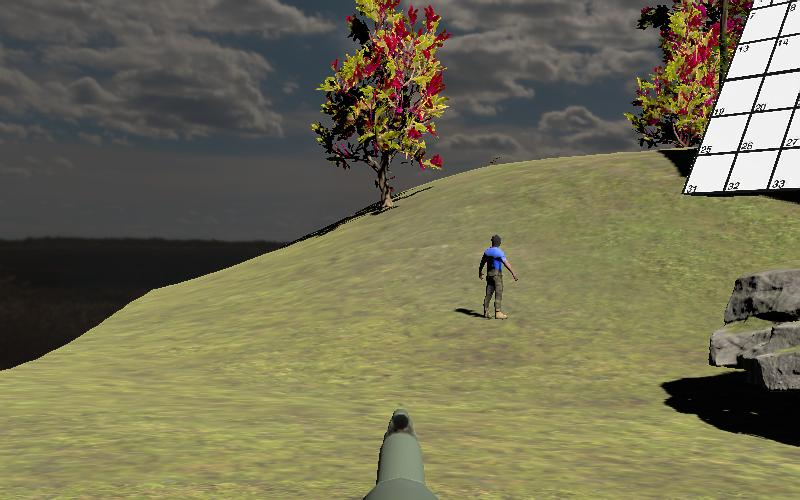Human: (476, 232, 519, 322)
